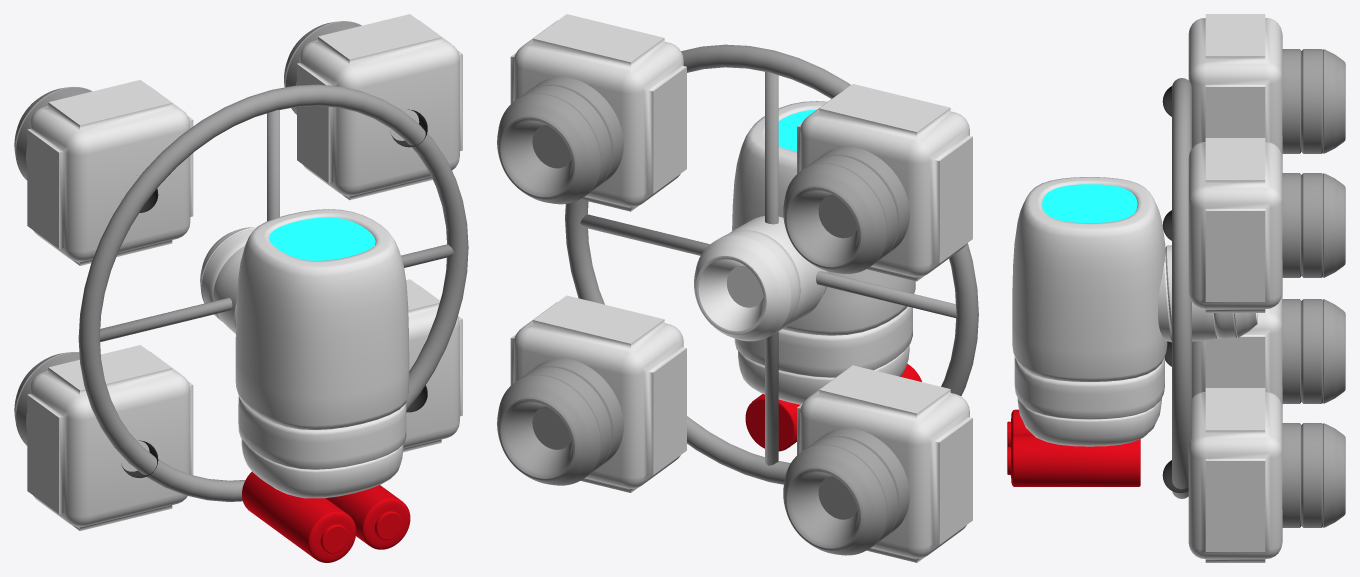
Rendered from HoverRobot.fbx.
3 renders of one model, left to right at view 1: azimuth 30°, elevation 25°; view 2: azimuth 150°, elevation 25°; view 3: azimuth 270°, elevation 25°, orthographic. The views are drawn at different scales.
Parts seen in each view (by area): view 1: Head, BodyRing, EngineCube.003, EngineCube.001, EngineCube.002, GasCylinder, EngineCube, Light, Body, Engine.003, Engine.001, Engine.002; view 2: BodyRing, EngineCube, EngineCube.002, EngineCube.001, EngineCube.003, Head, Engine.001, Engine, Engine.002, Engine.003, Body, GasCylinder (+1 smaller); view 3: Head, EngineCube.002, EngineCube, EngineCube.003, BodyRing, Engine, Engine.001, Engine.002, Engine.003, GasCylinder, EngineCube.001, Light (+1 smaller).
Part boxes in pixels (<box>): Head: <box>235,209,409,498</box>; BodyRing: <box>78,84,468,501</box>; EngineCube.003: <box>27,80,193,265</box>; EngineCube.001: <box>27,345,193,530</box>; EngineCube.002: <box>297,14,462,200</box>; GasCylinder: <box>242,471,410,562</box>; EngineCube: <box>403,279,462,452</box>; Light: <box>269,217,375,260</box>; Body: <box>200,227,256,333</box>; Engine.003: <box>14,86,92,180</box>; Engine.001: <box>14,352,79,445</box>; Engine.002: <box>284,21,361,114</box>; BodyRing: <box>565,44,978,484</box>; EngineCube: <box>510,295,686,492</box>; EngineCube.002: <box>510,14,686,211</box>; EngineCube.001: <box>797,365,972,562</box>; EngineCube.003: <box>797,84,972,281</box>; Head: <box>732,101,915,404</box>; Engine.001: <box>783,428,909,555</box>; Engine: <box>497,358,623,485</box>; Engine.002: <box>497,77,623,204</box>; Engine.003: <box>783,147,909,273</box>; Body: <box>694,216,828,341</box>; GasCylinder: <box>745,363,921,451</box>; Head: <box>1012,177,1167,446</box>; EngineCube.002: <box>1188,138,1282,312</box>; EngineCube: <box>1188,388,1282,562</box>; EngineCube.003: <box>1188,14,1282,157</box>; BodyRing: <box>1172,78,1191,498</box>; Engine: <box>1282,423,1345,527</box>; Engine.001: <box>1282,299,1345,403</box>; Engine.002: <box>1282,173,1345,277</box>; Engine.003: <box>1282,49,1345,153</box>; GasCylinder: <box>1007,409,1140,486</box>; EngineCube.001: <box>1192,293,1282,407</box>; Light: <box>1042,184,1137,223</box>.
Size of the model in its own units: 6.53 by 6.27 by 5.02.
